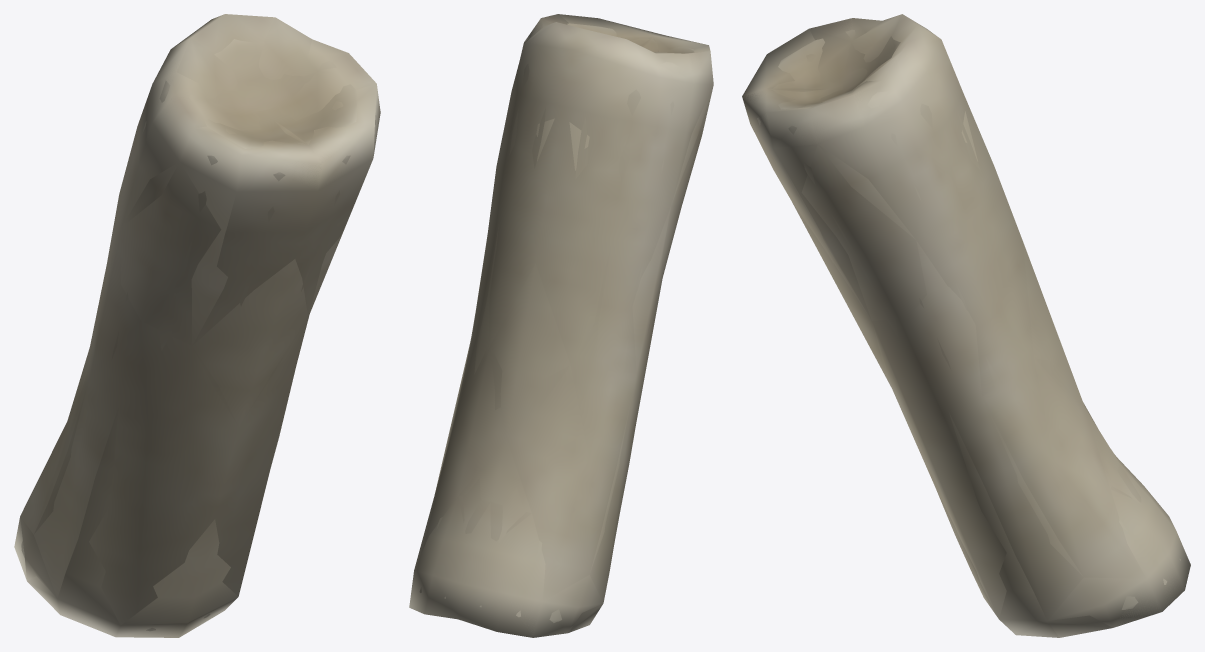
Rendered from vertebrae caudales 15.fbx.
3 views of the same model, side by side, from view 1: azimuth 30°, elevation 25°; view 2: azimuth 150°, elevation 25°; view 3: azimuth 270°, elevation 25° (orthographic). The views are drawn at different scales.
Parts seen in each view (by area): view 1: vertebrae caudales 15 low, vertebrae caudales 15, vertebrae caudales 15 high; view 2: vertebrae caudales 15, vertebrae caudales 15 low, vertebrae caudales 15 high; view 3: vertebrae caudales 15, vertebrae caudales 15 low, vertebrae caudales 15 high.
Boxes of the visible parts, <box> form: vertebrae caudales 15 low: <box>20,15,380,637</box>; vertebrae caudales 15: <box>14,14,380,637</box>; vertebrae caudales 15 high: <box>21,39,376,631</box>; vertebrae caudales 15: <box>409,14,713,637</box>; vertebrae caudales 15 low: <box>409,14,713,634</box>; vertebrae caudales 15 high: <box>419,23,694,622</box>; vertebrae caudales 15: <box>742,14,1190,637</box>; vertebrae caudales 15 low: <box>742,14,1184,637</box>; vertebrae caudales 15 high: <box>757,29,1180,609</box>.
Bounding box in the file's own units: 0.4556 × 1.37 × 0.9426.
Materials: 1 (1 with a texture image).
